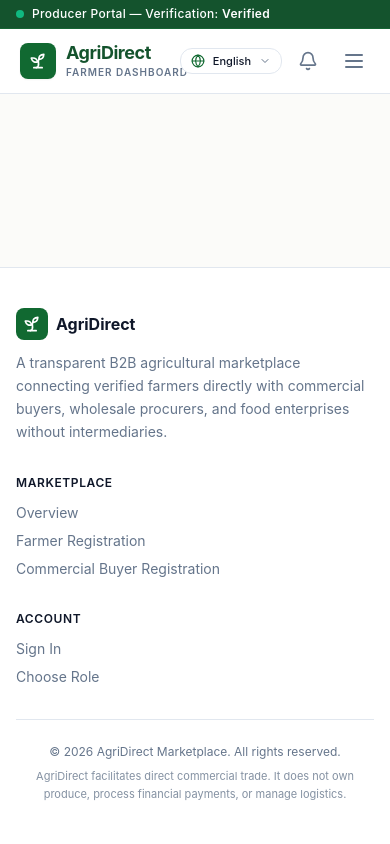
Test: Role-Aware Responsive Dashboard Navigation › toggles mobile menu drawer on hamburger click
This screenshot has width=390, height=844.
Click the button named "Open navigation menu".
click(354, 61)  # box [334,41,374,81]
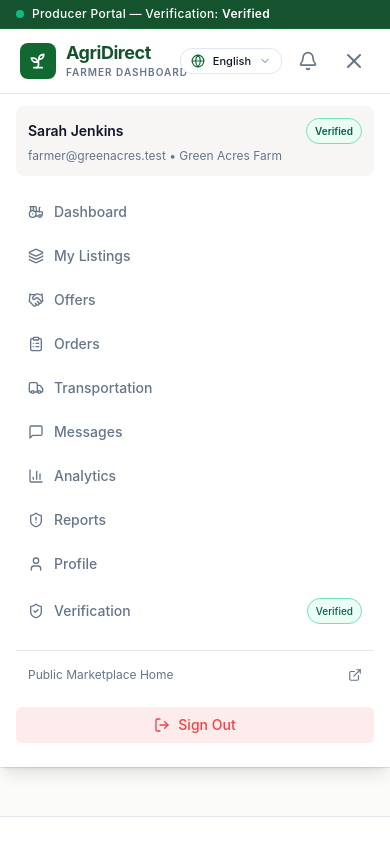
Check: the button named "Close navigation menu" is expanded, box [334,41,374,81]
Check: the navigation bar named "Mobile Dashboard Navigation" is shown, box [16,192,374,634]
